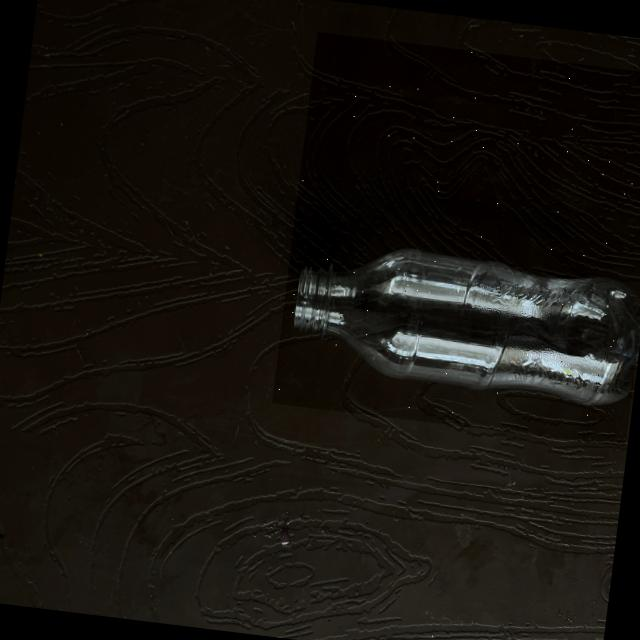PET_ClearBottle: (271, 30, 640, 445)
